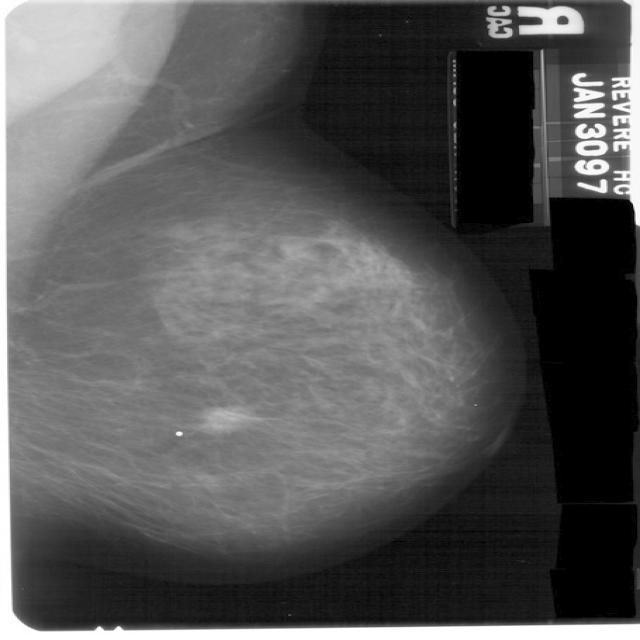tumour: (198, 404, 254, 431)
